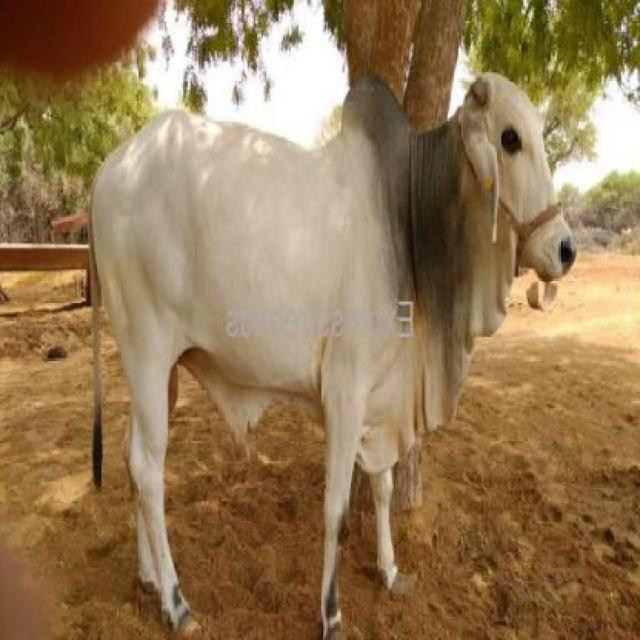Cow: (81, 61, 578, 638)
